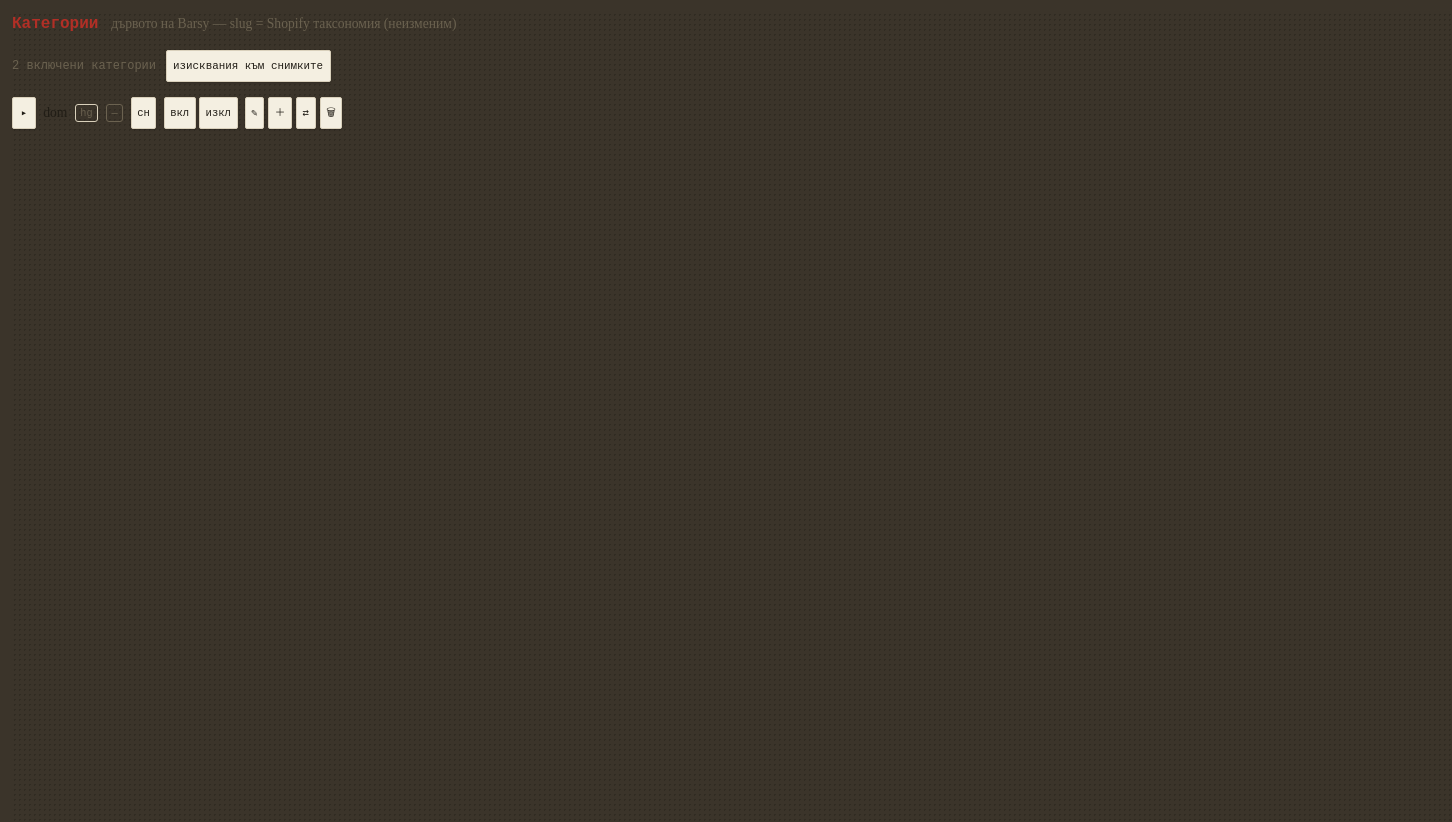
it: снимки на категория › says pictures exist but none is main, and nominates NOTHING
Expected: the text "dom" is shown, top-left (43, 102), bottom-right (67, 124)
Click the button named "разгъни": (24,113) top-left (12, 97), bottom-right (36, 129)
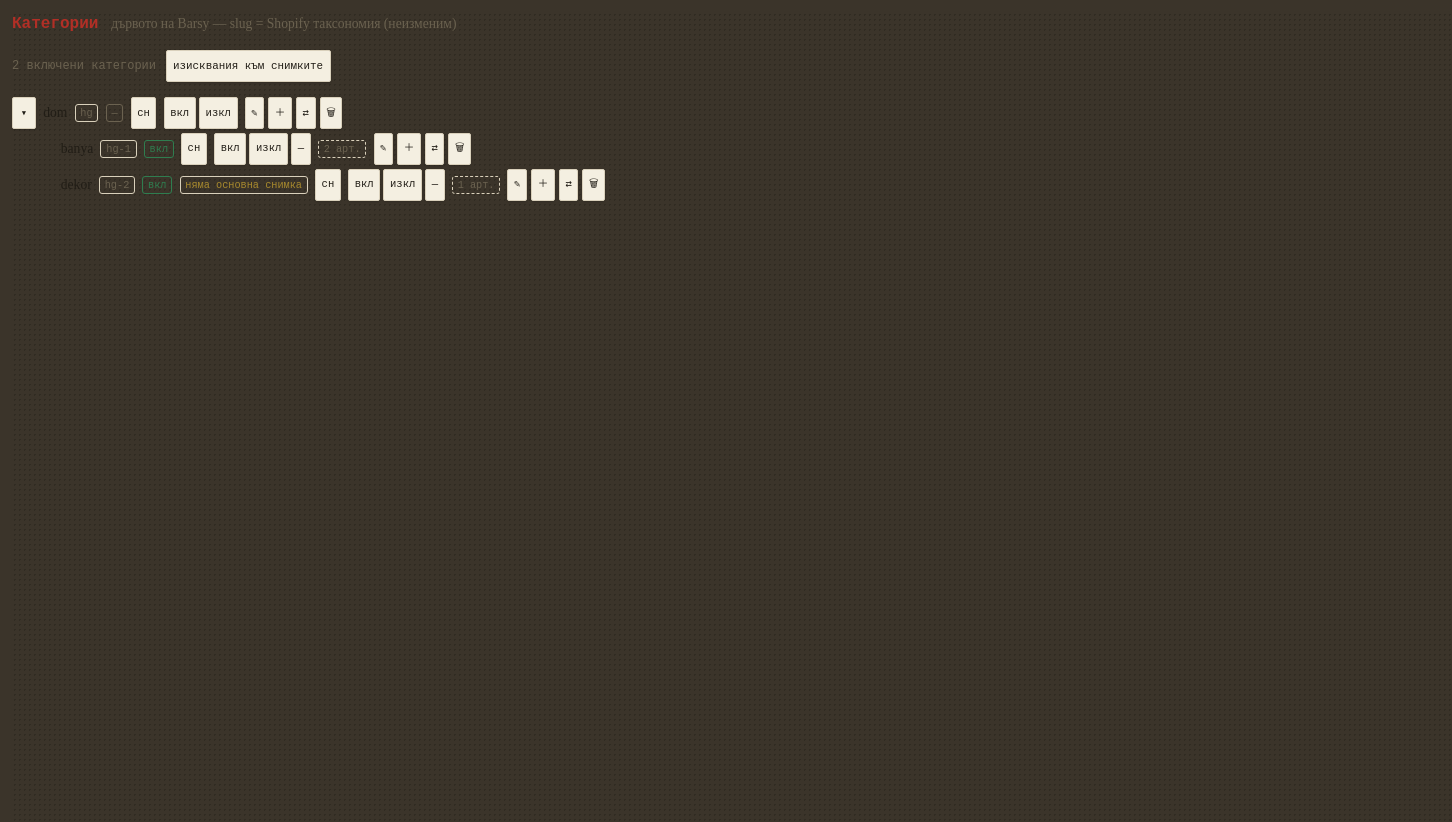
Click the button "сн" next to "няма основна снимка": (328,185) top-left (315, 169), bottom-right (341, 201)
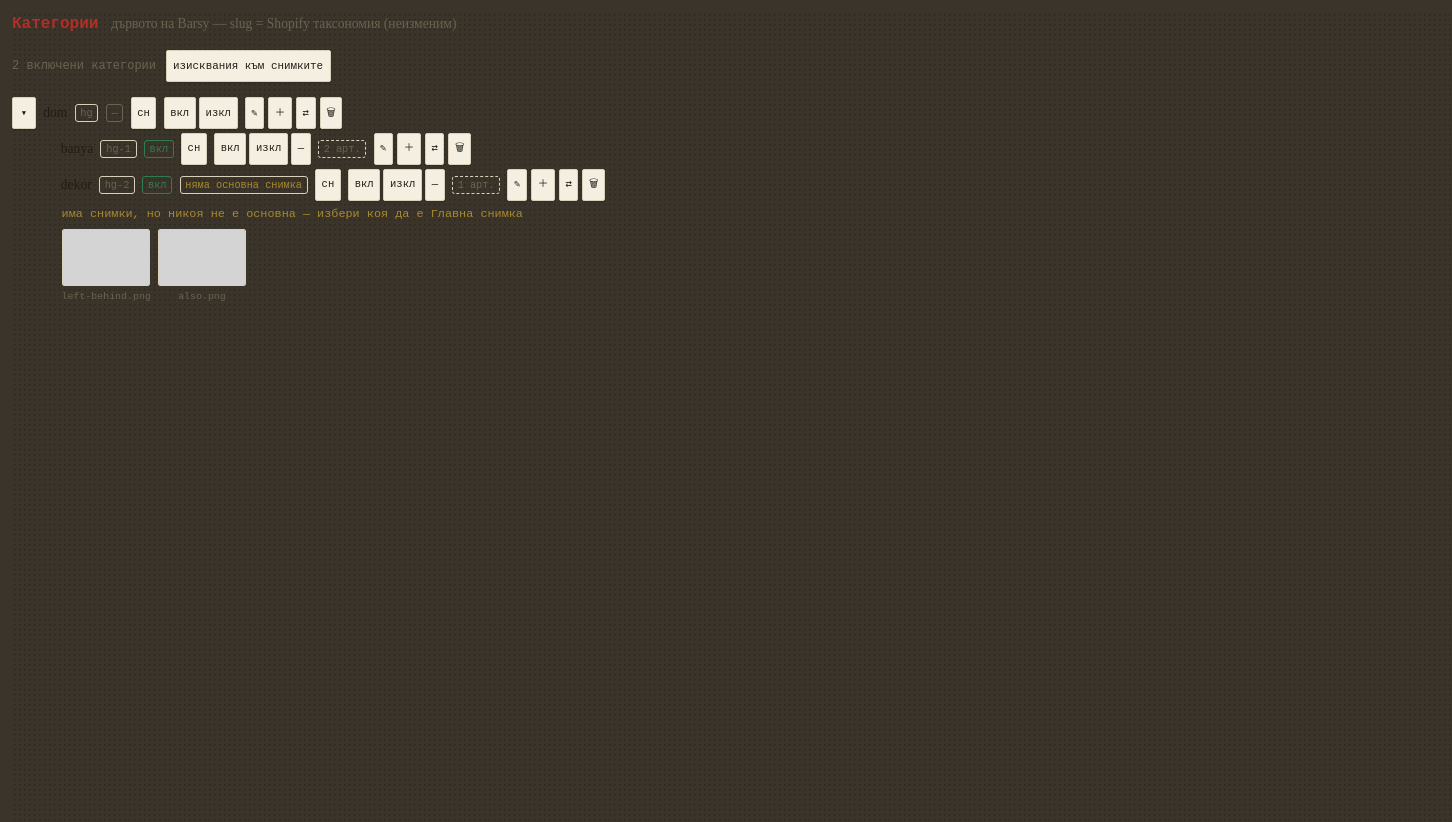
Now the text "никоя не е основна" is shown, box top-left (62, 207), bottom-right (523, 221)
Now the text "избери" is shown, box top-left (62, 207), bottom-right (523, 221)
